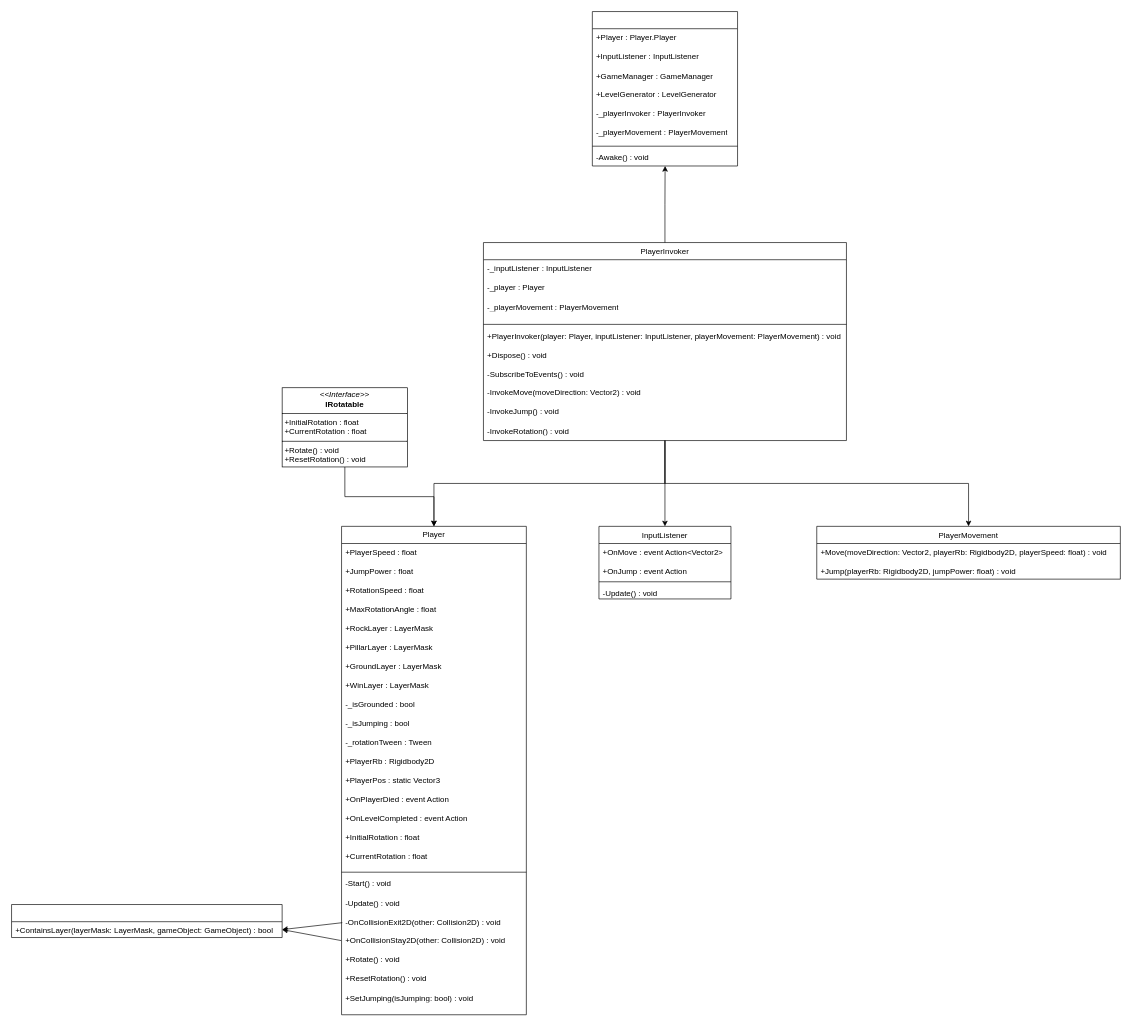
Some shapes in this 1132 by 1028 pixel diagram are drawn without their labels. Each missing label, with the box of its shape:
Boostrapper: (592, 11, 738, 166)
LayerChecker: (11, 904, 282, 938)
